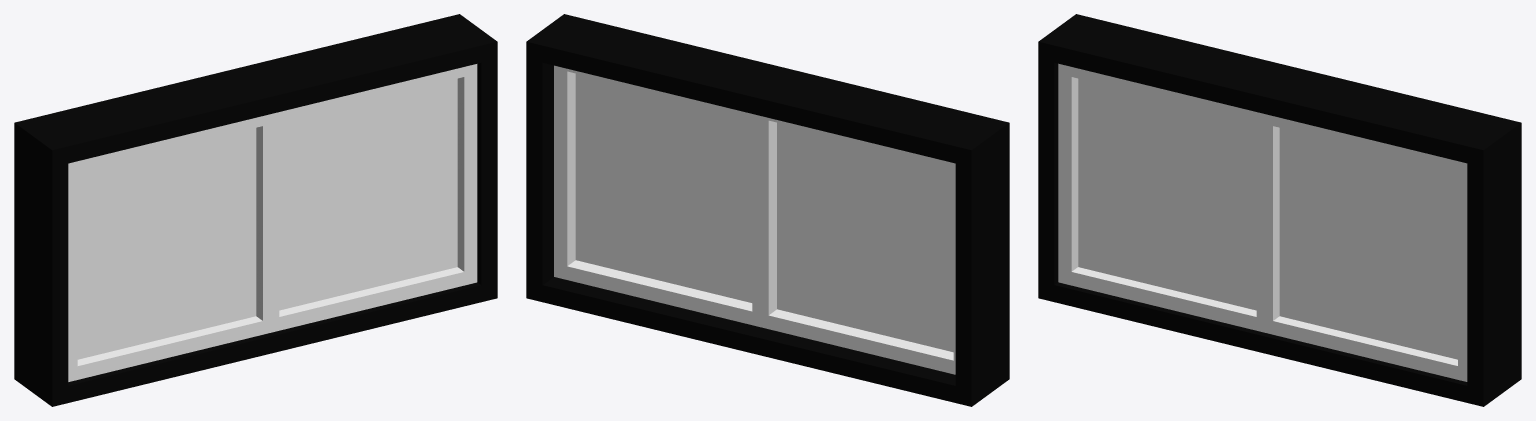
Rendered from wxF.fbx.
The picture shows the model from 3 angles, left to right: view 1: azimuth 30°, elevation 25°; view 2: azimuth 150°, elevation 25°; view 3: azimuth 330°, elevation 25°; orthographic projection.
Parts seen in each view (by area): view 1: i, glass; view 2: i, glass; view 3: i, glass.
Part boxes in pixels (left/top/right/bottom): i: left=14, top=14, right=497, bottom=406; glass: left=77, top=78, right=457, bottom=359; i: left=526, top=14, right=1009, bottom=406; glass: left=575, top=73, right=953, bottom=352; i: left=1038, top=14, right=1521, bottom=406; glass: left=1078, top=78, right=1457, bottom=359.
Size of the model in its own units: 13.6 by 7.49 by 2.
